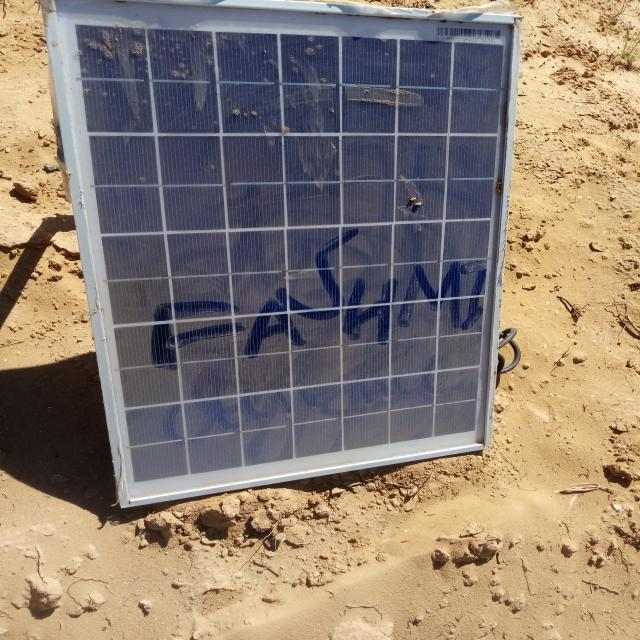faulty: (45, 3, 517, 506)
